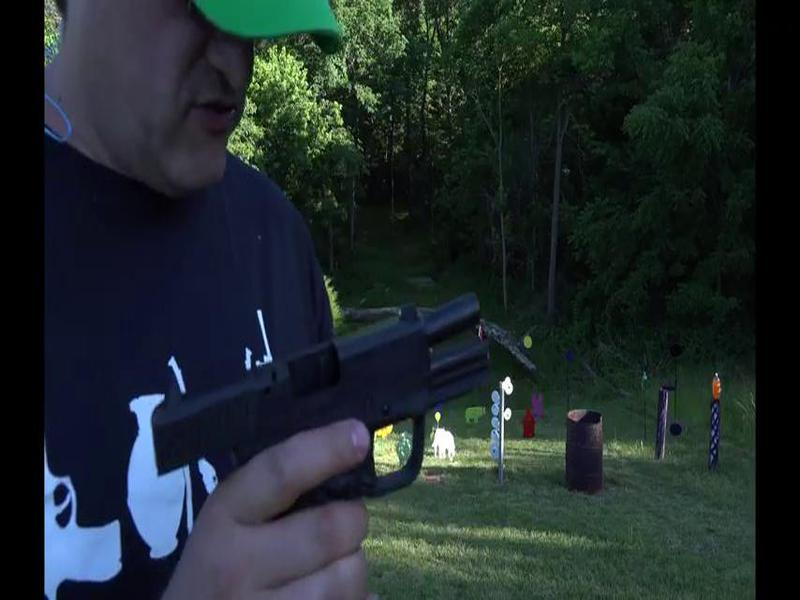Pistola: (128, 274, 503, 566)
